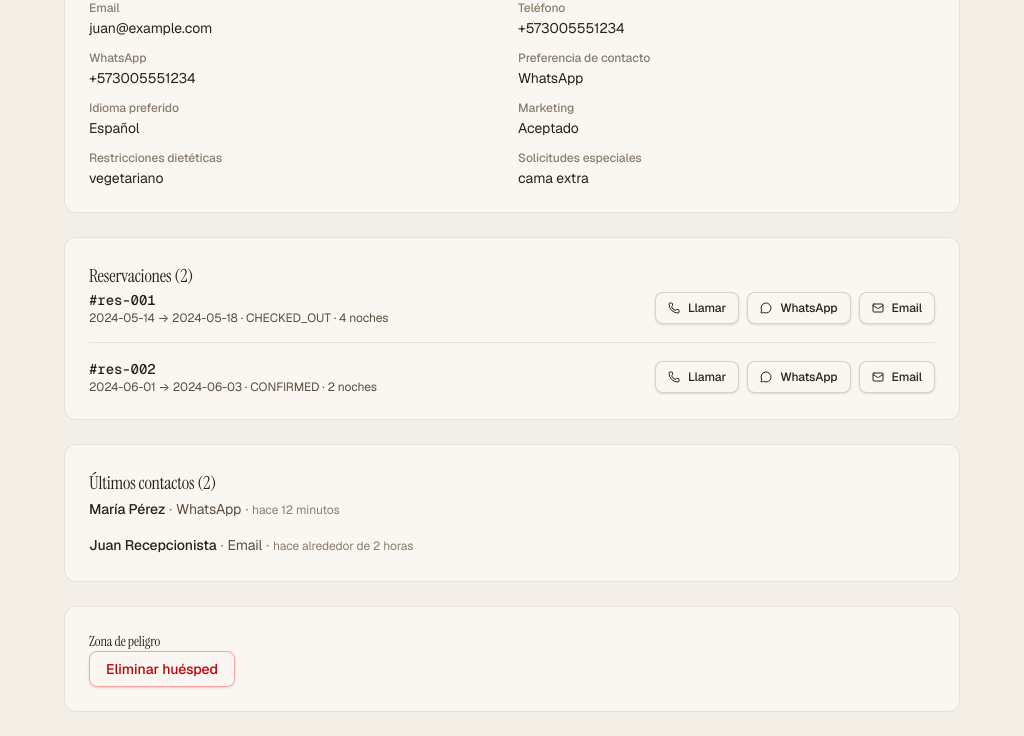
GuestDetailPage › Test D-4 — guest with reservations shows anonymize confirmation instead
The width and height of the screenshot is (1024, 736).
(page scrolled)
Click the button "Eliminar huésped": (162, 669) [89,651,235,687]
(page scrolled)
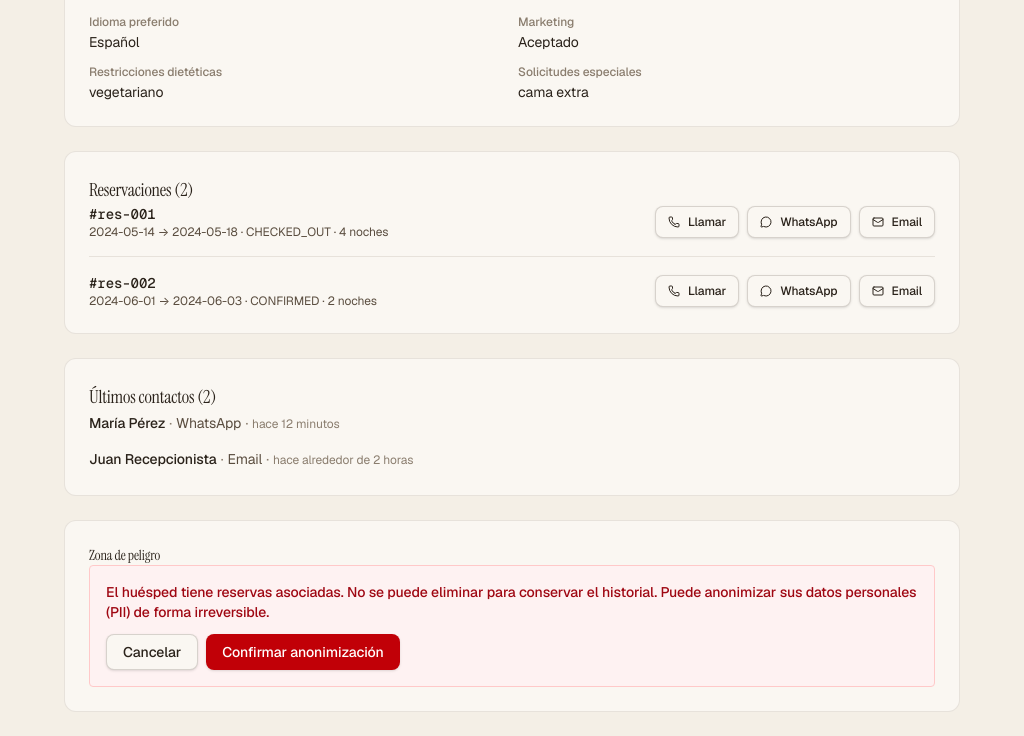
Now the text "tiene reservas asociadas" is shown, box [106,583,916,621]
Now the button "Confirmar anonimización" is shown, box [206,634,400,670]
